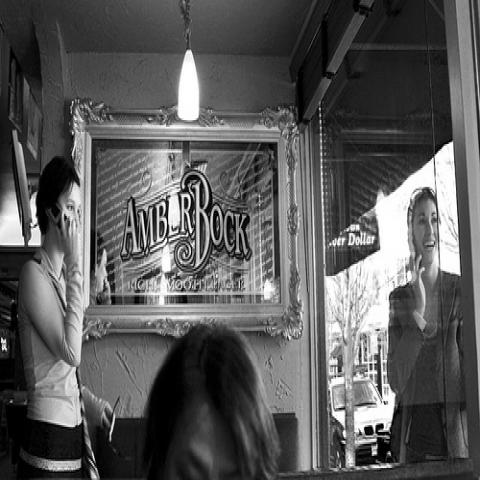car: (330, 374, 392, 460)
